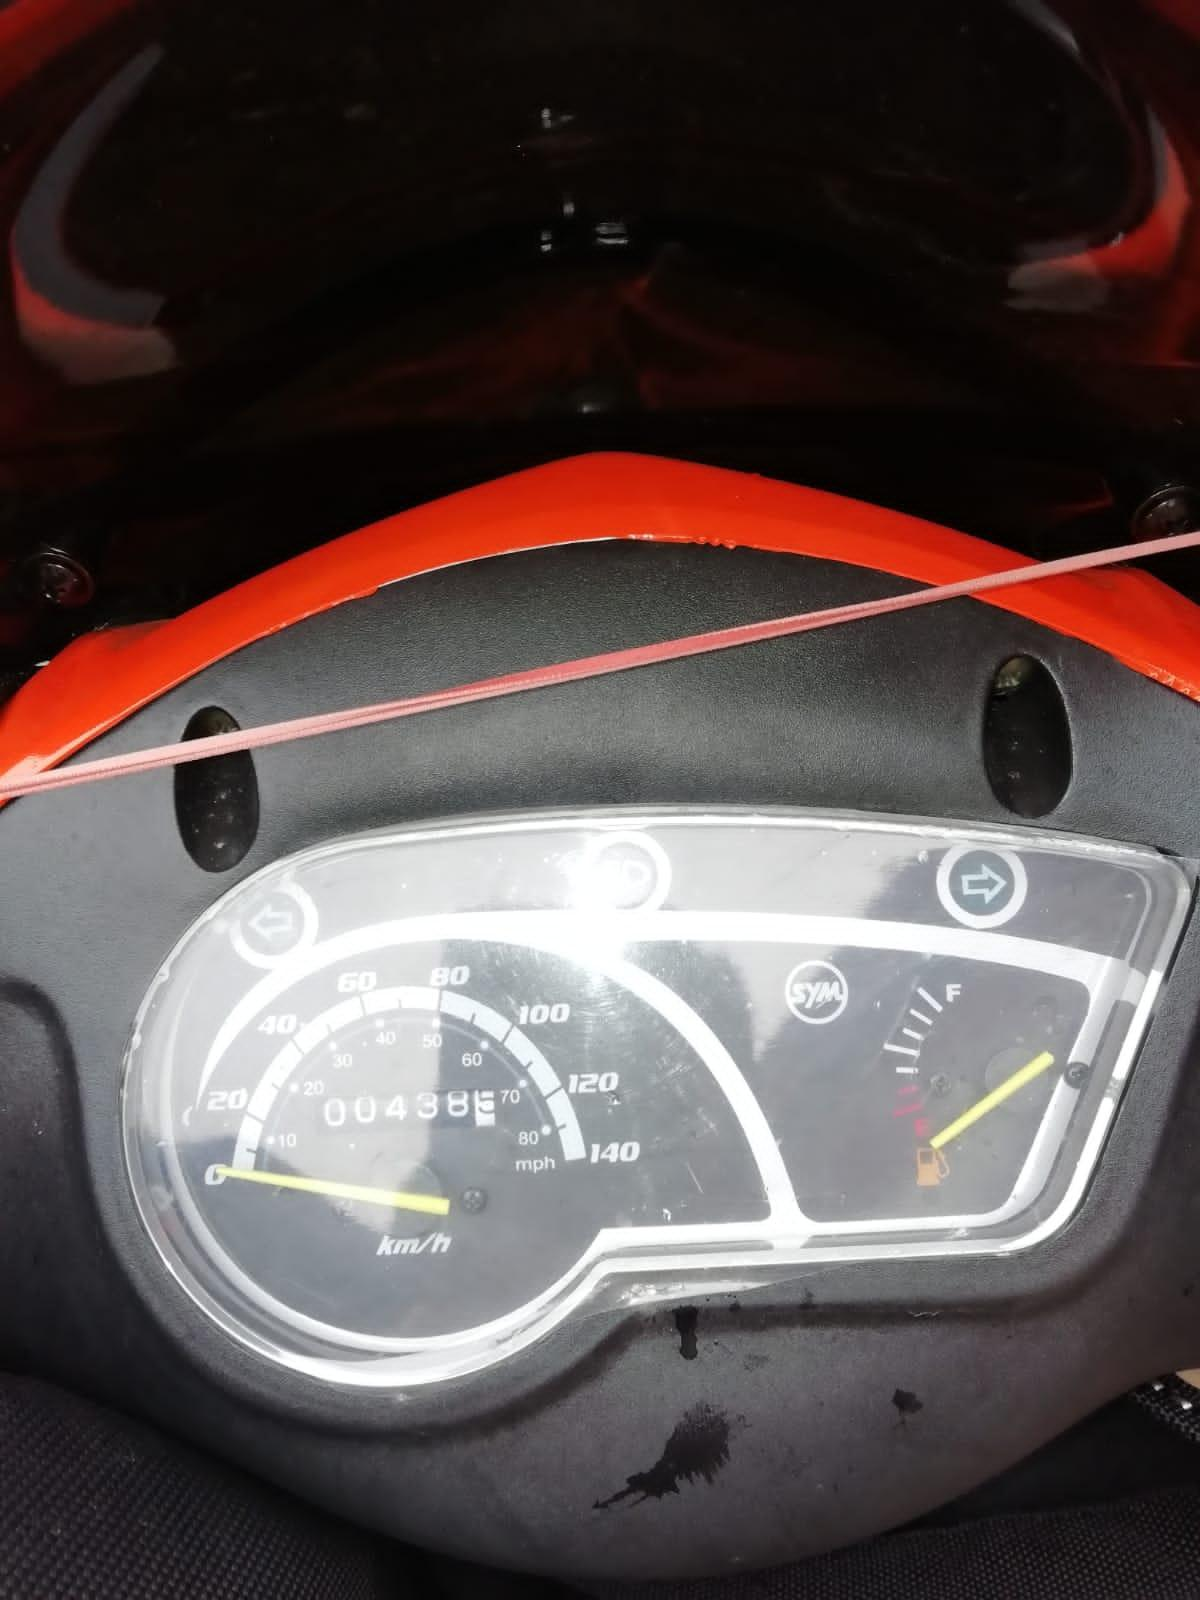0: (323, 1097, 345, 1128), (354, 1095, 376, 1123)
3: (413, 1091, 439, 1119)
4: (384, 1094, 407, 1121)
5: (476, 1089, 495, 1114)
8: (446, 1090, 469, 1117)
odometer: (313, 1086, 498, 1134)
